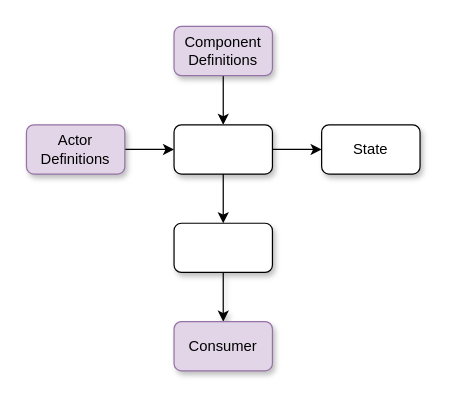
Image size: 449x401. Some labels were removed from this diagram. The centre of each missing label's shape, as x and y in pixels:
Event Bus: point 224,249
Framework API: point 224,151
